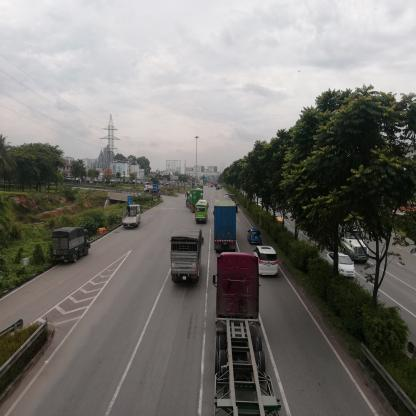bus: (197, 201, 210, 221)
car: (330, 255, 355, 277), (260, 247, 277, 276), (249, 230, 263, 245)
container: (218, 258, 259, 407), (215, 203, 237, 252), (340, 229, 368, 257), (188, 191, 202, 209)
truck: (172, 232, 203, 284), (53, 228, 89, 261), (124, 207, 140, 229)
